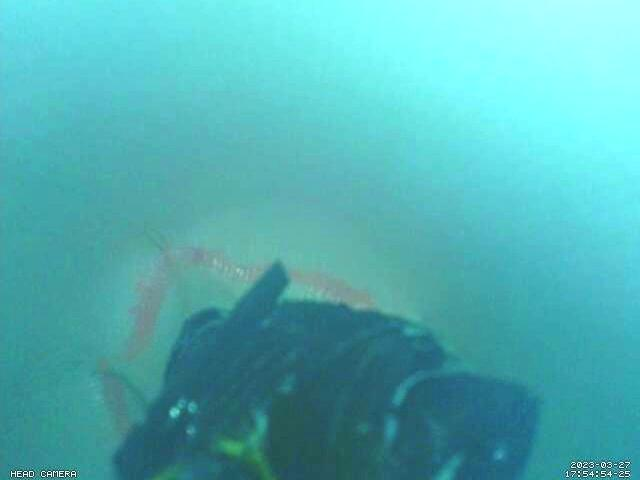head: (95, 244, 375, 440)
